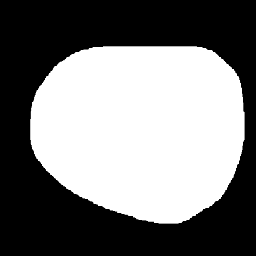mass: (45, 45, 243, 207)
